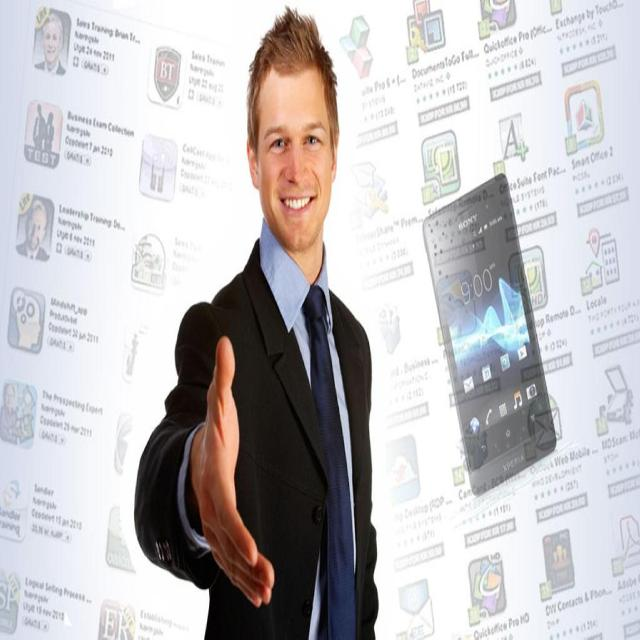Face: (258, 54, 346, 262)
